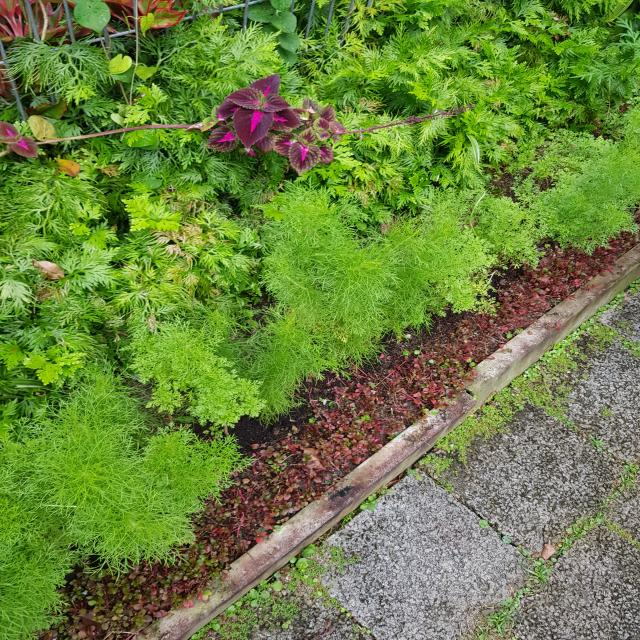Coleus: (196, 74, 356, 176)
Dill: (18, 414, 175, 558), (282, 207, 403, 351), (564, 157, 640, 229)
